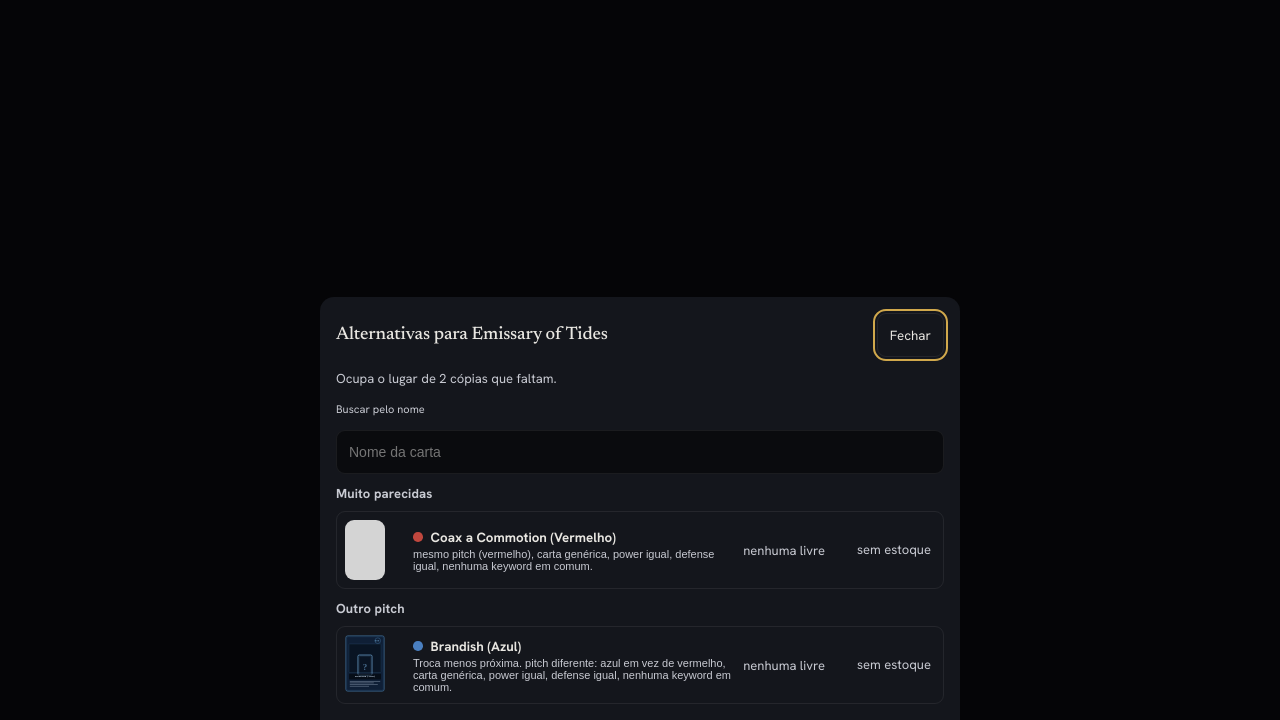
Test case: AlternativesSheet › picking › shows the localized 409 message: REPLACEMENT_ILLEGAL
Check: the element with test id "alternatives-group-very_close" is shown, box [336,486,944,589]
Click the button with aria-label "Usar Coax a Commotion (Vermelho) no lugar": click(625, 550) [405,521,845,580]
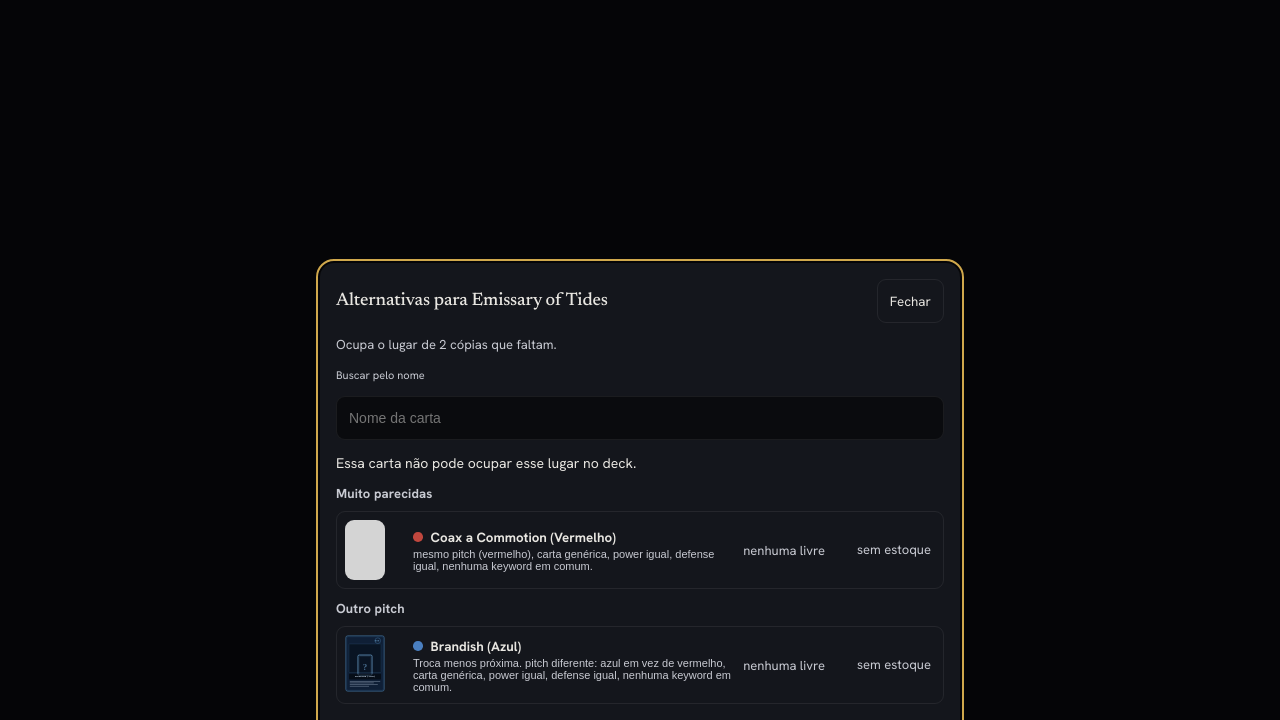
Check: the message with test id "alternatives-pick-error" reads "Essa carta não pode ocupar esse lugar no deck.", box [336,454,636,472]
